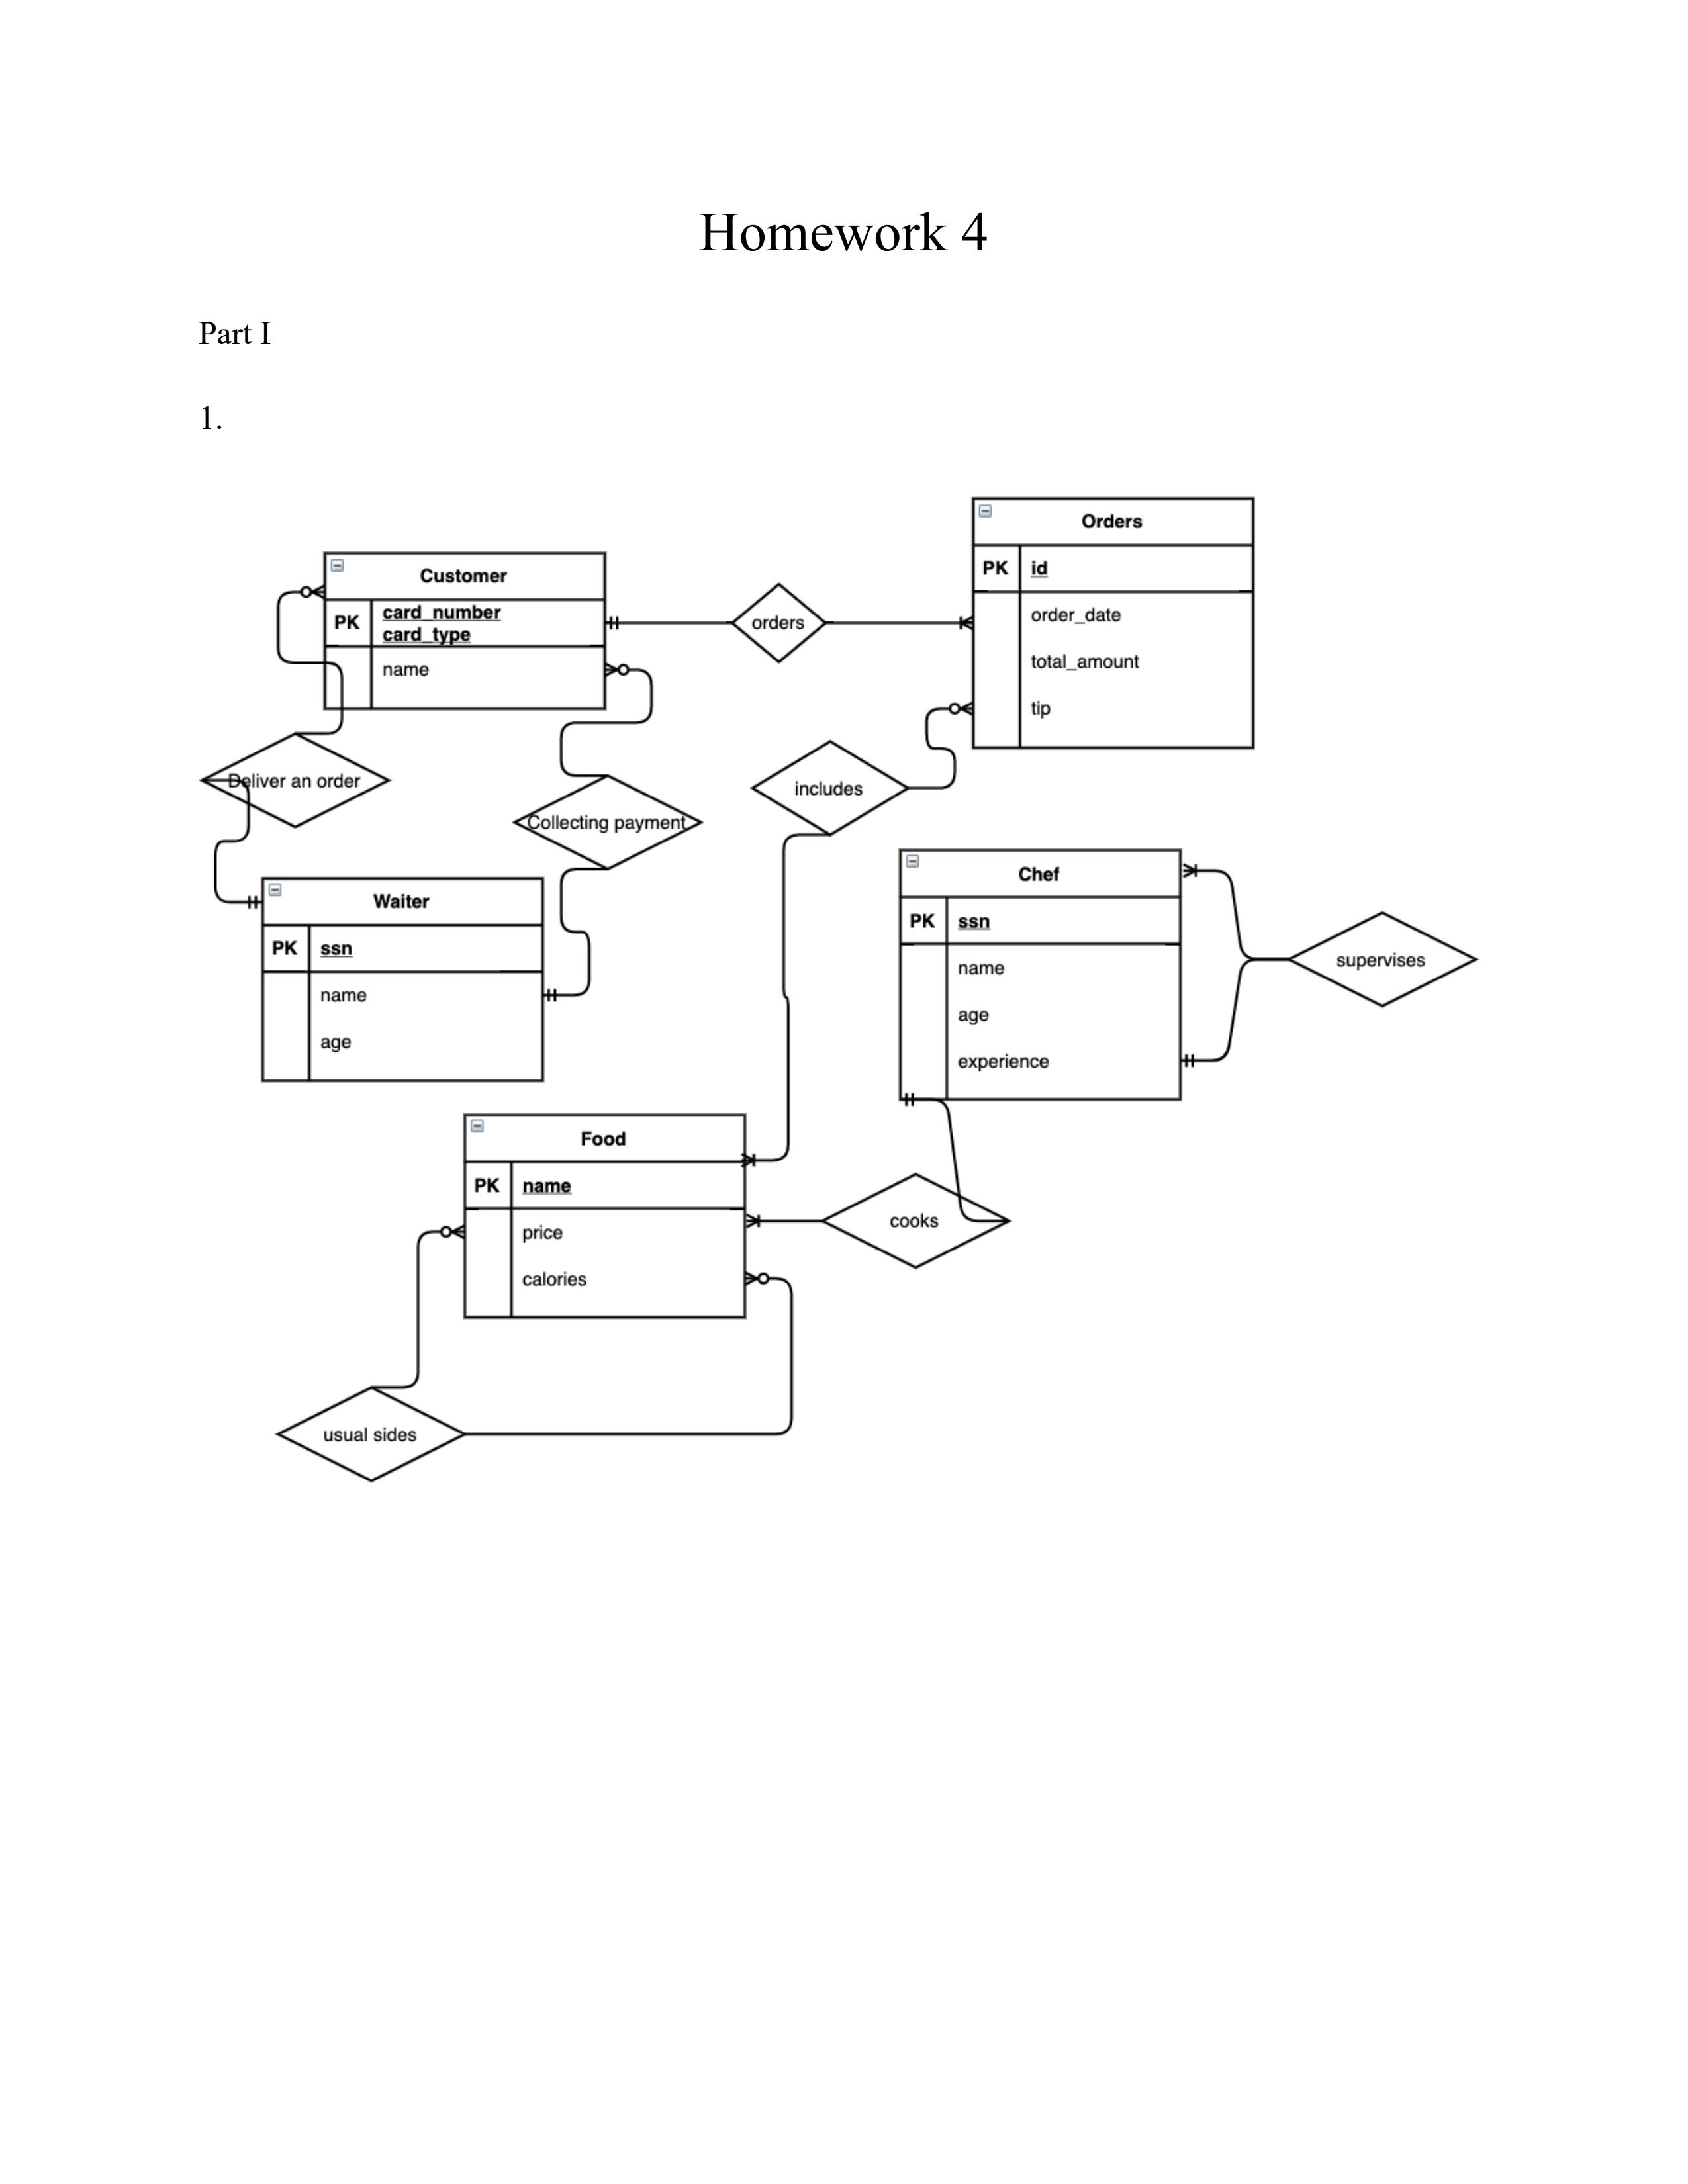Entity: (972, 496, 1257, 750), (899, 847, 1183, 1101), (261, 876, 546, 1083), (463, 1113, 748, 1319), (323, 550, 608, 711)
Relationship: (275, 1386, 465, 1484), (1289, 911, 1479, 1009), (200, 732, 392, 828), (823, 1172, 1011, 1269), (512, 776, 704, 870), (750, 739, 908, 837), (732, 583, 826, 665)
